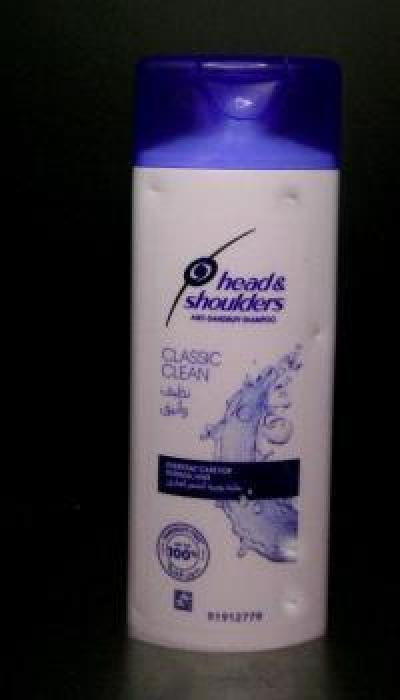dent_unacc: (305, 319, 335, 361), (278, 591, 314, 623), (143, 176, 175, 204), (278, 188, 312, 210)
